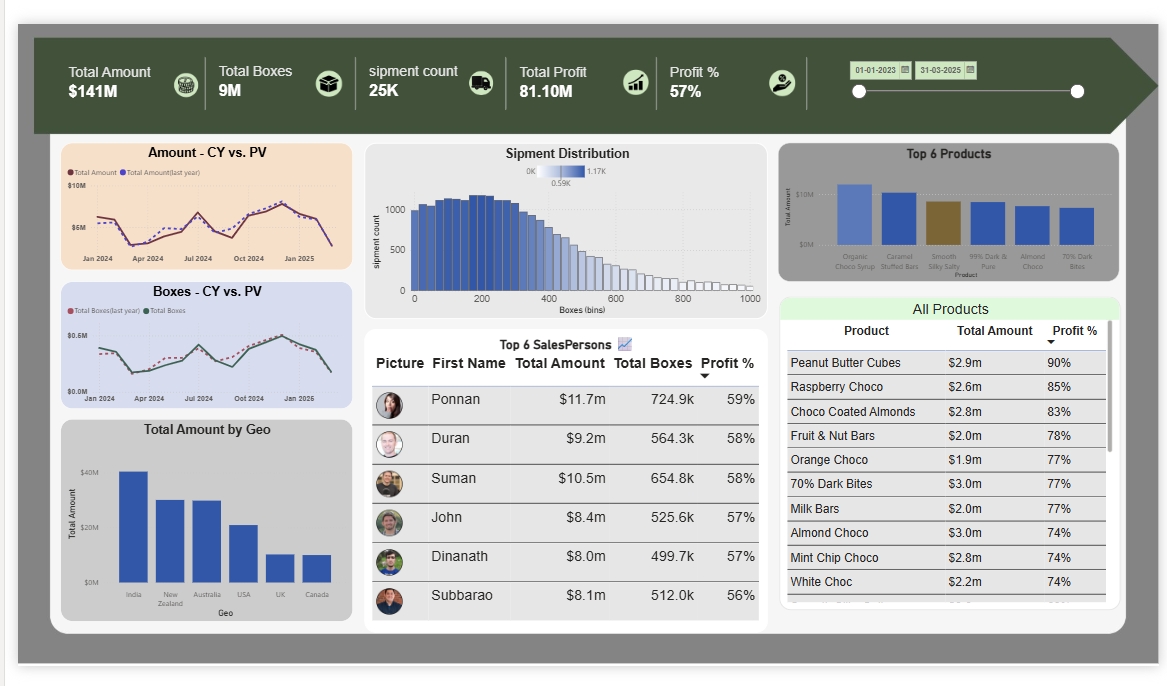

Layout of this report page (visuals, bound fields, positions):
{"tool":"powerbi","page":{"name":"Page 5","canvas":[1920,1080],"ordinal":0},"visuals":[{"type":"lineChart","title":"Amount - CY vs. PV","fields":{"Category":["calendar.Start of Month"],"Y":["shipments.Total Amount","shipments.Total Amount(last year)"]},"box":[71.5,199.8,492.2,214.5],"z":0},{"type":"lineChart","title":"Boxes - CY vs. PV","fields":{"Y":["shipments.Total Boxes(last year)","shipments.Total Boxes"],"Category":["calendar.Start of Month"]},"box":[71.5,433.3,492.2,214.5],"z":1000},{"type":"barChart","fields":{"Category":["locations.Geo"],"Y":["shipments.Total Amount"]},"box":[71.5,664.7,492.2,340.8],"z":2000},{"type":"clusteredColumnChart","title":"Sipment Distribution ","fields":{"Y":["shipments.sipment count"],"Category":["shipments.Boxes (bins)"]},"box":[582.6,199.8,679.4,296.6],"z":3000},{"type":"tableEx","title":"Top 6 SalesPersons 📈","fields":{"Values":["people.Picture","people.First Name","shipments.Total Amount","shipments.Total Boxes","shipments.Profit %"]},"box":[582.6,513.2,679.4,511.1],"z":4000},{"type":"columnChart","title":"Top 6 Products","fields":{"Category":["products.Product"],"Y":["shipments.Total Amount"]},"box":[1278.9,199.8,574.2,233.5],"z":5000},{"type":"tableEx","title":"All Products","fields":{"Values":["products.Product","shipments.Total Amount","shipments.Profit %"]},"box":[1281,458.5,574.2,528],"z":6000},{"type":"cardVisual","fields":{"Data":["shipments.Total Amount","shipments.Total Boxes","shipments.sipment count","shipments.Total Profit","shipments.Profit %"]},"box":[56.8,44.2,1289.4,111.5],"z":6001},{"type":"slicer","fields":{"Values":["calendar.cal_date"]},"box":[1381.9,52.6,427,96.8],"z":6002}]}

Visuals, with their boxes on the page's 1920x1080 design canvas (x1, y1, x2, y2). These are canvas units, not pixel positions in the 1167x686 screenshot, which may show the page scaled, cropped or inside an application window:
"Amount - CY vs. PV" lineChart: box(72, 200, 564, 414)
"Boxes - CY vs. PV" lineChart: box(72, 433, 564, 648)
barChart - locations.Geo x shipments.Total Amount: box(72, 665, 564, 1006)
"Sipment Distribution " clusteredColumnChart: box(583, 200, 1262, 496)
"Top 6 SalesPersons 📈" tableEx: box(583, 513, 1262, 1024)
"Top 6 Products" columnChart: box(1279, 200, 1853, 433)
"All Products" tableEx: box(1281, 458, 1855, 986)
cardVisual - shipments.Total Amount x shipments.Total Boxes: box(57, 44, 1346, 156)
slicer - calendar.cal_date: box(1382, 53, 1809, 149)
